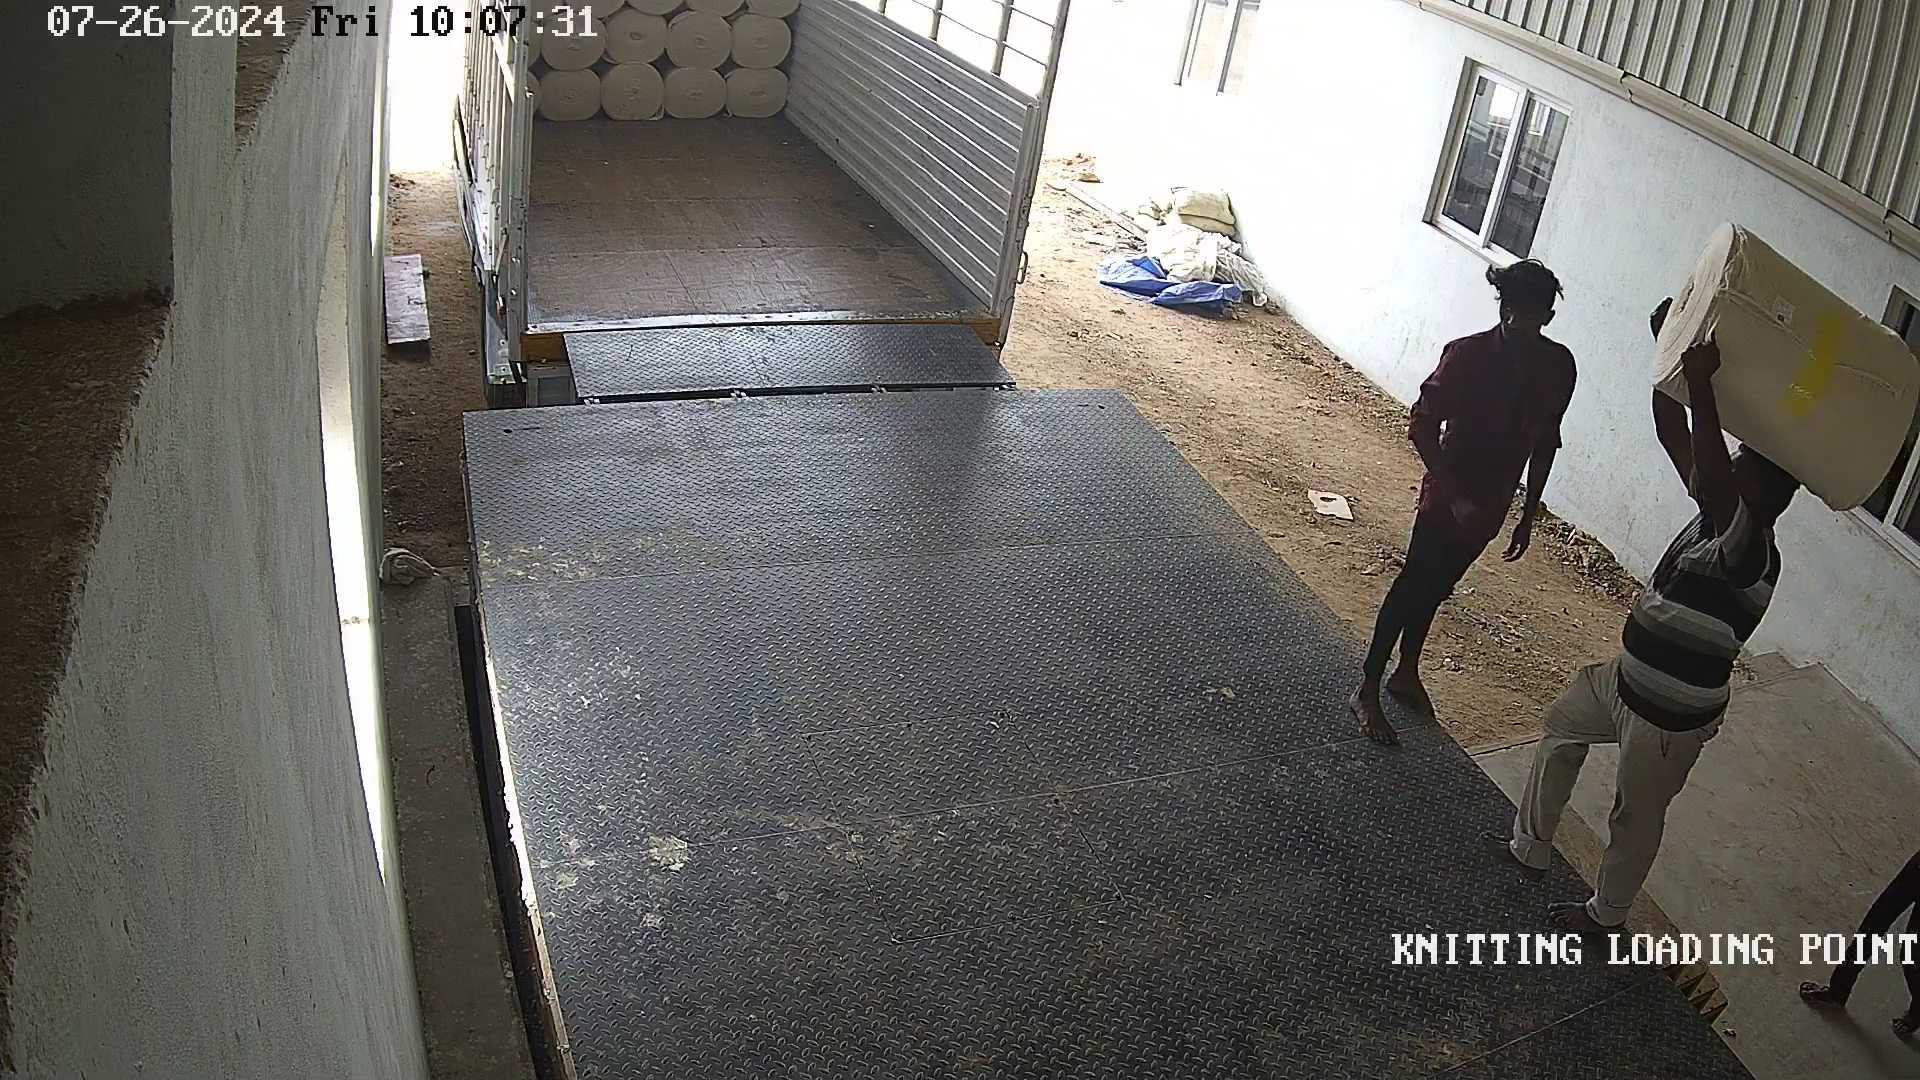bag: (1648, 215, 1916, 516)
